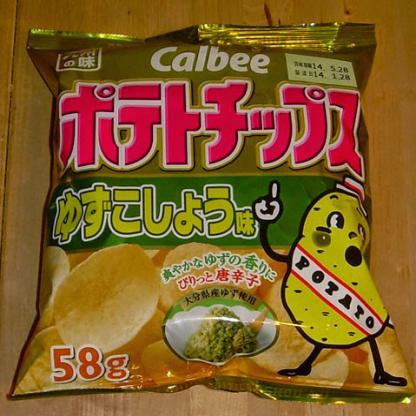potatochip: (9, 22, 415, 405)
